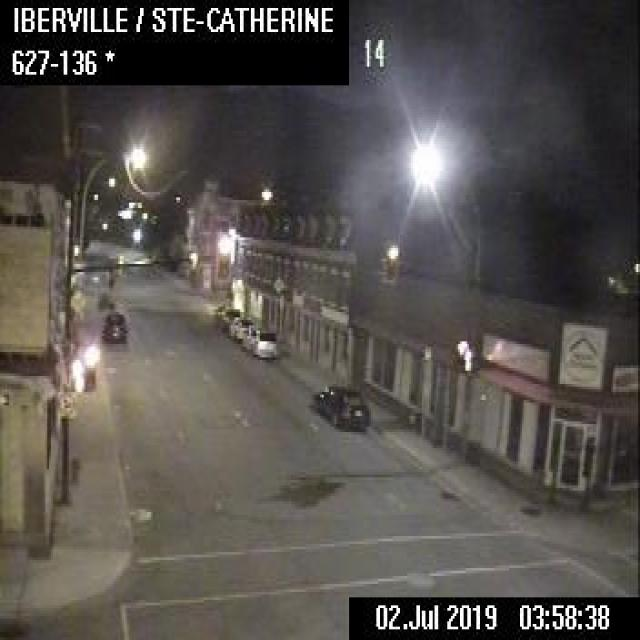vehicle: (313, 381, 371, 431), (98, 309, 127, 344), (250, 331, 276, 360), (230, 316, 252, 337), (220, 308, 239, 330), (240, 327, 256, 346)
